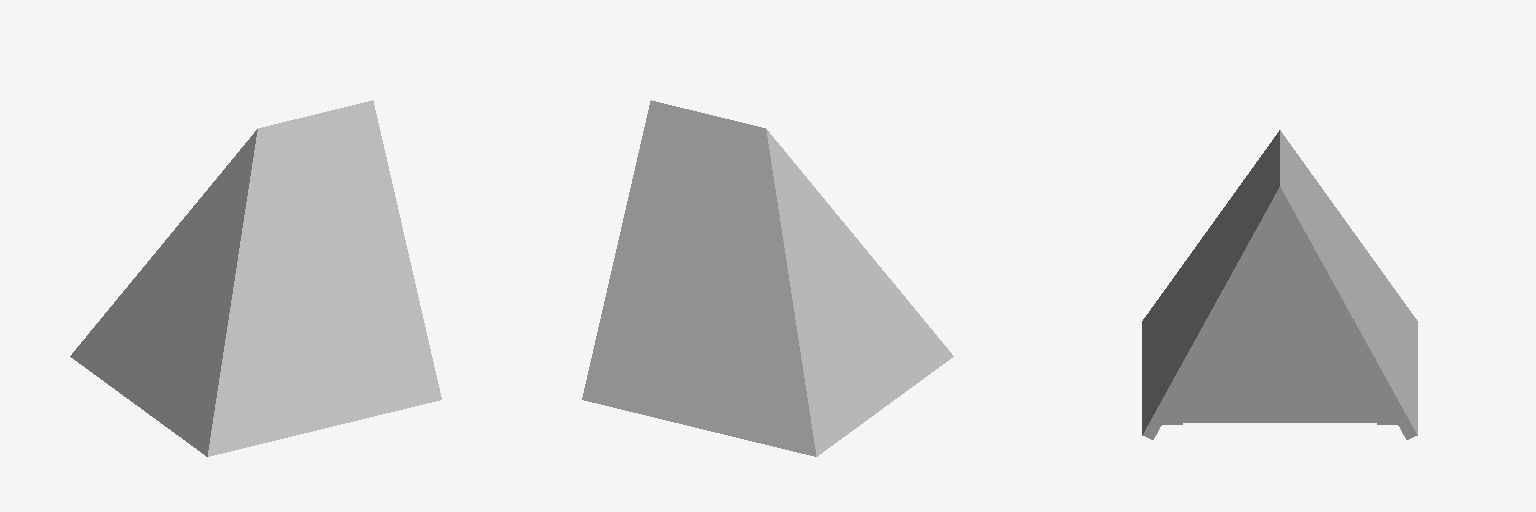
The model's file is roof-high-gable-end.obj.
The picture shows the model from 3 angles: view 1: azimuth 30°, elevation 25°; view 2: azimuth 150°, elevation 25°; view 3: azimuth 270°, elevation 25°; orthographic projection.
Visible parts, largest first — view 1: roof-high-gable-end; view 2: roof-high-gable-end; view 3: roof-high-gable-end.
Part boxes in pixels (x1,y1,x2,y2): roof-high-gable-end: (70, 100, 441, 456); roof-high-gable-end: (582, 100, 953, 456); roof-high-gable-end: (1142, 130, 1417, 439).
Size of the model in its own units: 1.12 by 1.16 by 1.13.